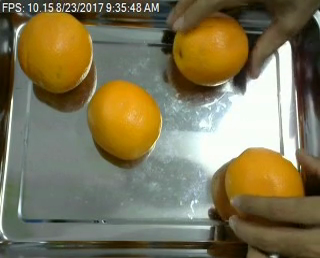Orange: (87, 77, 163, 160), (17, 10, 93, 92)
